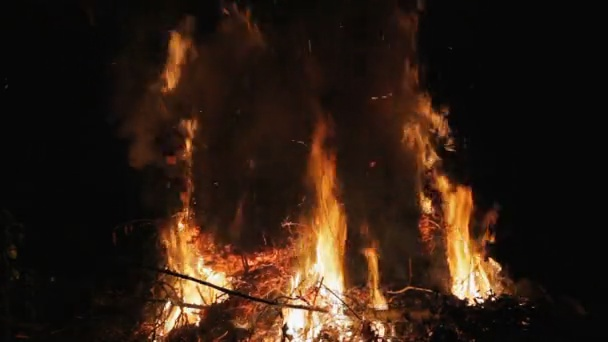fire: (281, 153, 350, 341), (156, 213, 235, 338), (446, 191, 486, 302), (366, 253, 392, 342), (167, 35, 181, 87)
